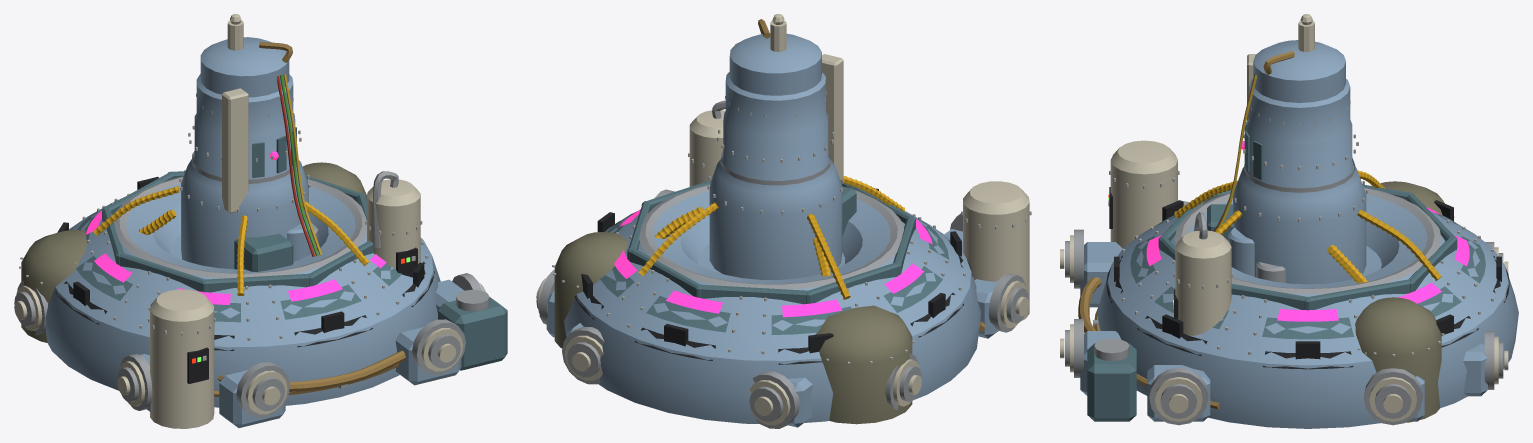
The model's file is fusion-reactor.glb.
The picture shows the model from 3 angles, left to right: view 1: azimuth 30°, elevation 25°; view 2: azimuth 150°, elevation 25°; view 3: azimuth 270°, elevation 25°; orthographic projection. The views are drawn at different scales.
Visible parts, largest first — view 1: body, anim_glow_plasma; view 2: body, anim_glow_plasma; view 3: body, anim_glow_plasma.
Boxes of the visible parts, left/top/right/bottom form: body: left=14, top=14, right=507, bottom=428; anim_glow_plasma: left=86, top=151, right=386, bottom=304; body: left=536, top=14, right=1031, bottom=428; anim_glow_plasma: left=614, top=209, right=932, bottom=317; body: left=1060, top=14, right=1518, bottom=428; anim_glow_plasma: left=1146, top=141, right=1469, bottom=321.
Size of the model in its own units: 6.18 by 5.11 by 6.53.
